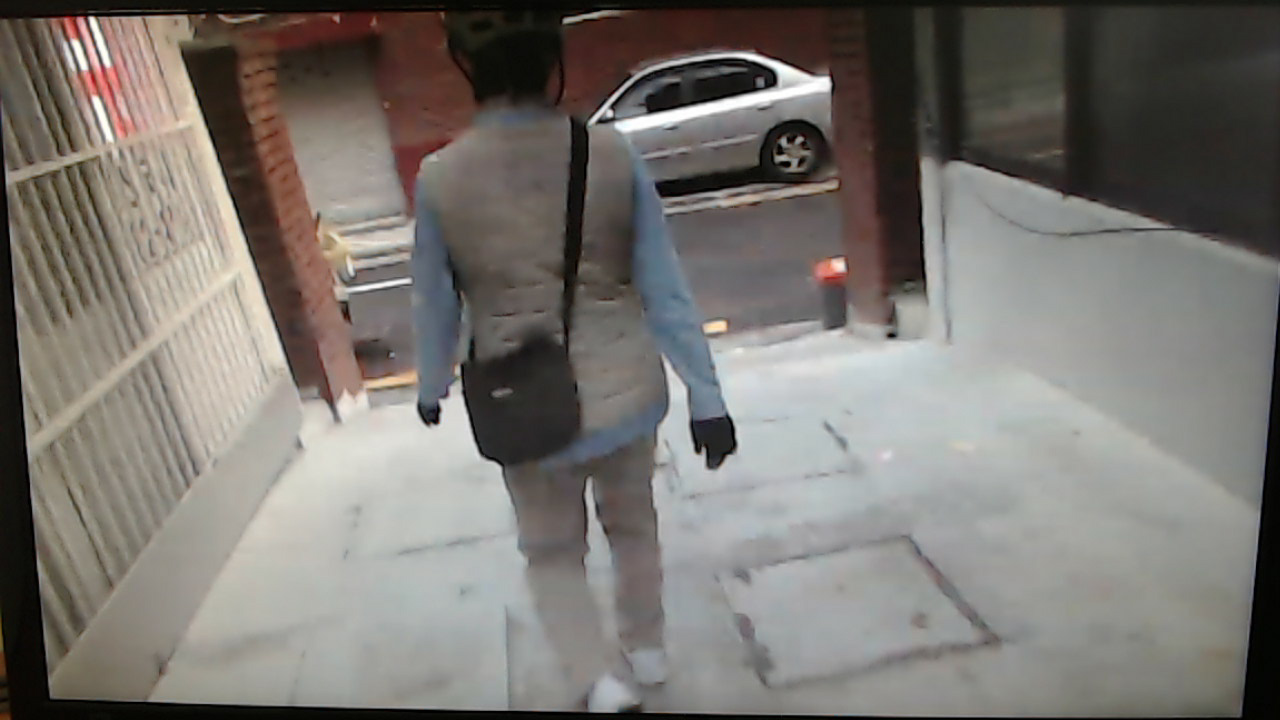Yakurut: (342, 13, 793, 715)
